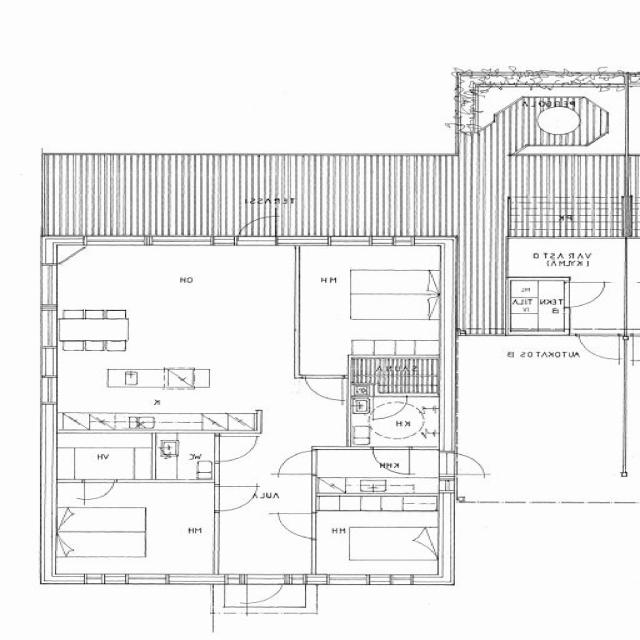door: (237, 210, 276, 246), (248, 574, 286, 608), (579, 333, 620, 362), (214, 486, 258, 511), (214, 436, 258, 461), (274, 514, 317, 539), (565, 283, 607, 307), (373, 447, 410, 474), (306, 375, 342, 402), (441, 454, 488, 474), (278, 451, 316, 474), (374, 392, 407, 418), (84, 479, 114, 502)
